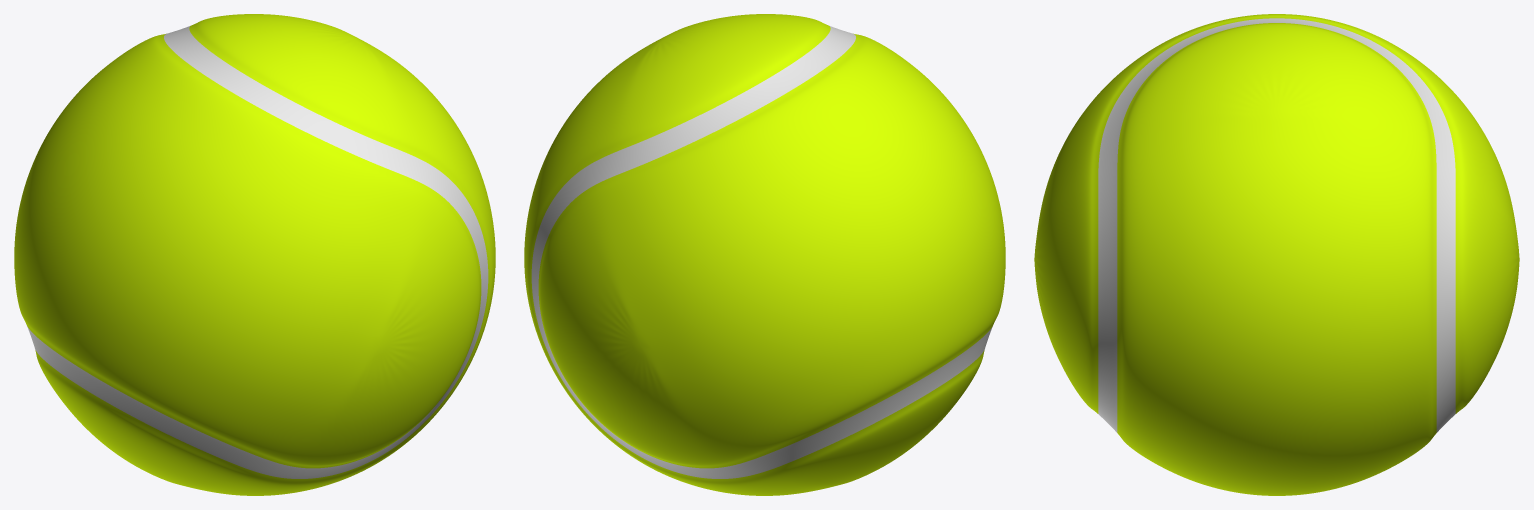
File: tennis_ball.fbx
The picture shows the model from 3 angles, left to right: view 1: azimuth 30°, elevation 25°; view 2: azimuth 150°, elevation 25°; view 3: azimuth 270°, elevation 25°; orthographic projection.
Visible parts, largest first — view 1: Sphere.001; view 2: Sphere.001; view 3: Sphere.001.
Boxes of the visible parts, x1=… form: Sphere.001: x1=14, y1=14, x2=495, y2=495; Sphere.001: x1=524, y1=14, x2=1005, y2=495; Sphere.001: x1=1034, y1=14, x2=1519, y2=495.
Bounding box in the file's own units: 140 × 141 × 141.
